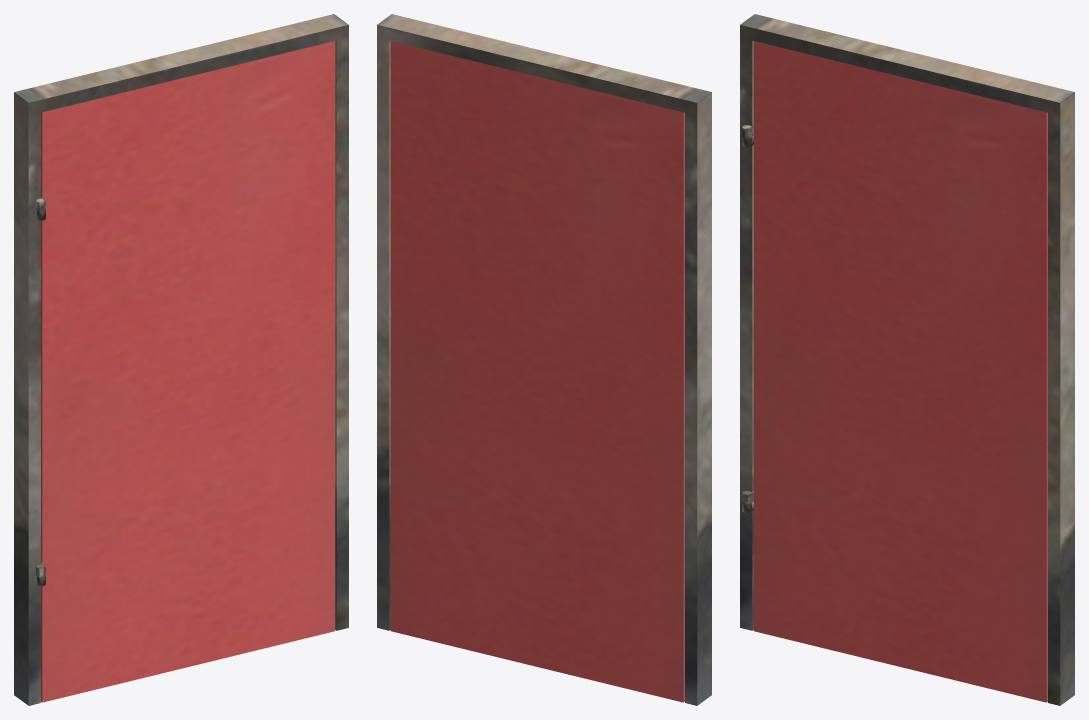
Rendered from door.fbx.
The picture shows the model from 3 angles, left to right: view 1: azimuth 30°, elevation 25°; view 2: azimuth 150°, elevation 25°; view 3: azimuth 330°, elevation 25°; orthographic projection.
Parts seen in each view (by area): view 1: Cube.002, Cube.001; view 2: Cube.002, Cube.001; view 3: Cube.002, Cube.001.
Part boxes in pixels (x1=…): Cube.002: x1=36, y1=41, x2=335, y2=702; Cube.001: x1=14, y1=14, x2=348, y2=705; Cube.002: x1=390, y1=41, x2=684, y2=702; Cube.001: x1=377, y1=14, x2=711, y2=705; Cube.002: x1=742, y1=41, x2=1047, y2=702; Cube.001: x1=740, y1=14, x2=1074, y2=705.
Size of the model in its own units: 125 by 225 by 13.46.
2 materials, 2 textured.
